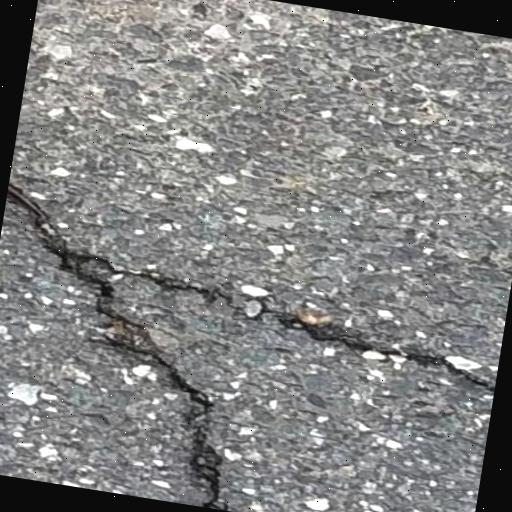spalling: (5, 175, 228, 499), (132, 258, 494, 388)
